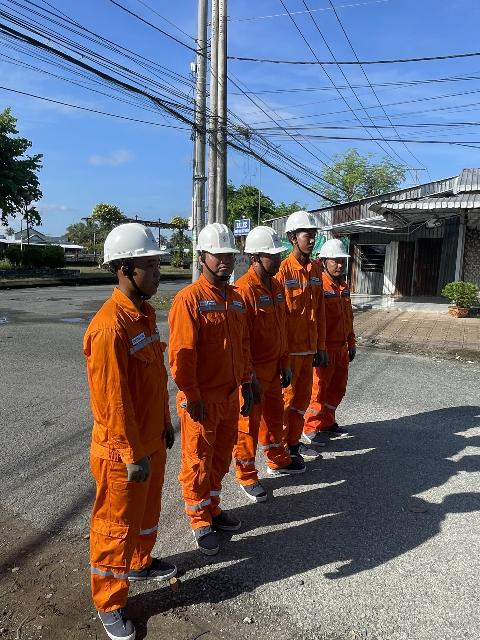gloves: (121, 454, 156, 486), (182, 390, 208, 428), (245, 372, 272, 408), (230, 383, 256, 417), (158, 418, 177, 449), (317, 344, 332, 370), (342, 340, 358, 364), (279, 367, 299, 385), (311, 343, 323, 369)
helmet: (101, 213, 168, 262), (191, 218, 243, 258), (248, 218, 288, 256), (281, 204, 322, 235), (315, 241, 352, 263)
shoes: (94, 590, 147, 640), (124, 554, 183, 583), (208, 492, 246, 531), (190, 517, 222, 559), (284, 434, 324, 463), (238, 471, 274, 502), (318, 415, 355, 441), (270, 457, 306, 477), (300, 424, 330, 447)
